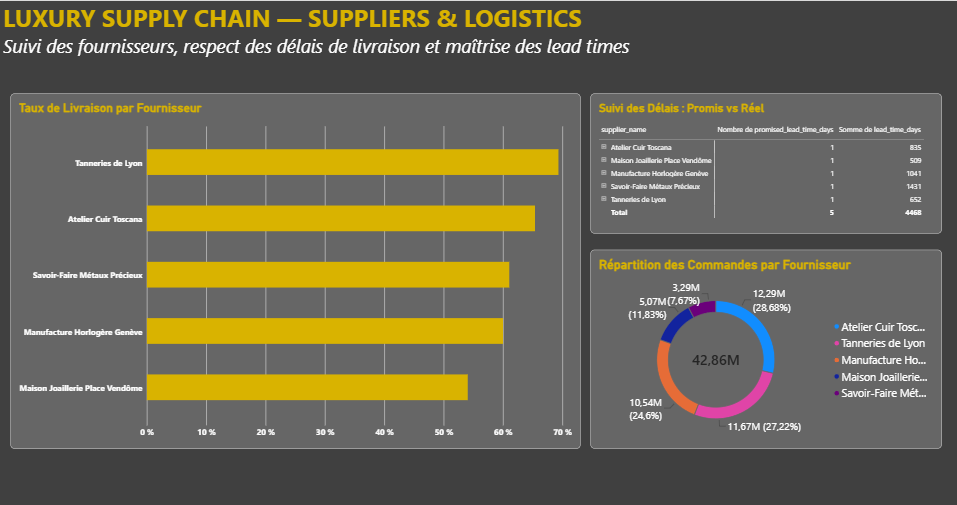

This screenshot's page, from the dashboard's own definition file:
{"tool":"powerbi","page":{"name":"Page 3","canvas":[1920,1080],"ordinal":2},"visuals":[{"type":"textbox","box":[10.3,0,1360.6,279.9],"z":0},{"type":"clusteredBarChart","title":"Taux de Livraison par Fournisseur","fields":{"Category":["suppliers.supplier_name"],"Y":["deliveries.On-Time Delivery Rate"]},"box":[25,185,1140,710],"z":1000},{"type":"pivotTable","title":"Suivi des Délais : Promis vs Réel","fields":{"Rows":["suppliers.supplier_name","orders.order_id"],"Values":["CountNonNull(suppliers.promised_lead_time_days)","Sum(deliveries.lead_time_days)"]},"box":[1185,185,702.5,280],"z":2000},{"type":"donutChart","title":"Répartition des Commandes par Fournisseur","fields":{"Category":["suppliers.supplier_name"],"Y":["Sum(orders.total_cost)"]},"box":[1185,497.5,702.5,397.5],"z":3000}]}

Visuals, with their boxes on the page's 1920x1080 design canvas (x1, y1, x2, y2). These are canvas units, not pixel positions in the 957x505 screenshot, which may show the page scaled, cropped or inside an application window:
textbox: x1=10 y1=0 x2=1371 y2=280
"Taux de Livraison par Fournisseur" clusteredBarChart: x1=25 y1=185 x2=1165 y2=895
"Suivi des Délais : Promis vs Réel" pivotTable: x1=1185 y1=185 x2=1888 y2=465
"Répartition des Commandes par Fournisseur" donutChart: x1=1185 y1=498 x2=1888 y2=895
